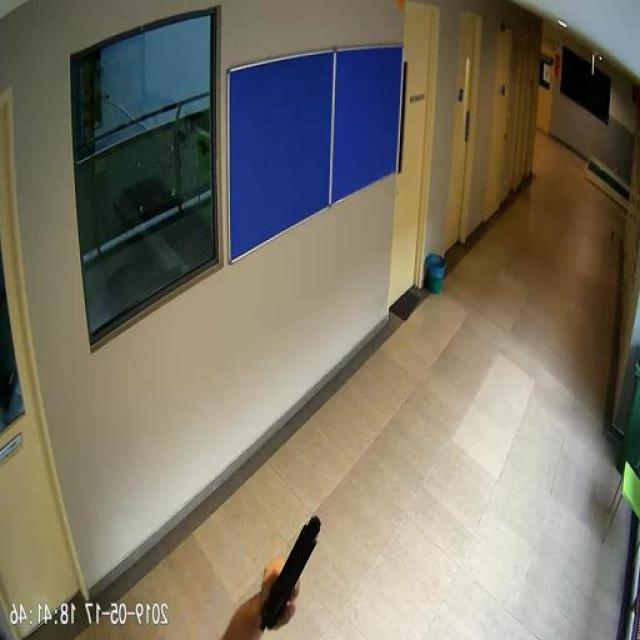weapon: (260, 516, 324, 630)
